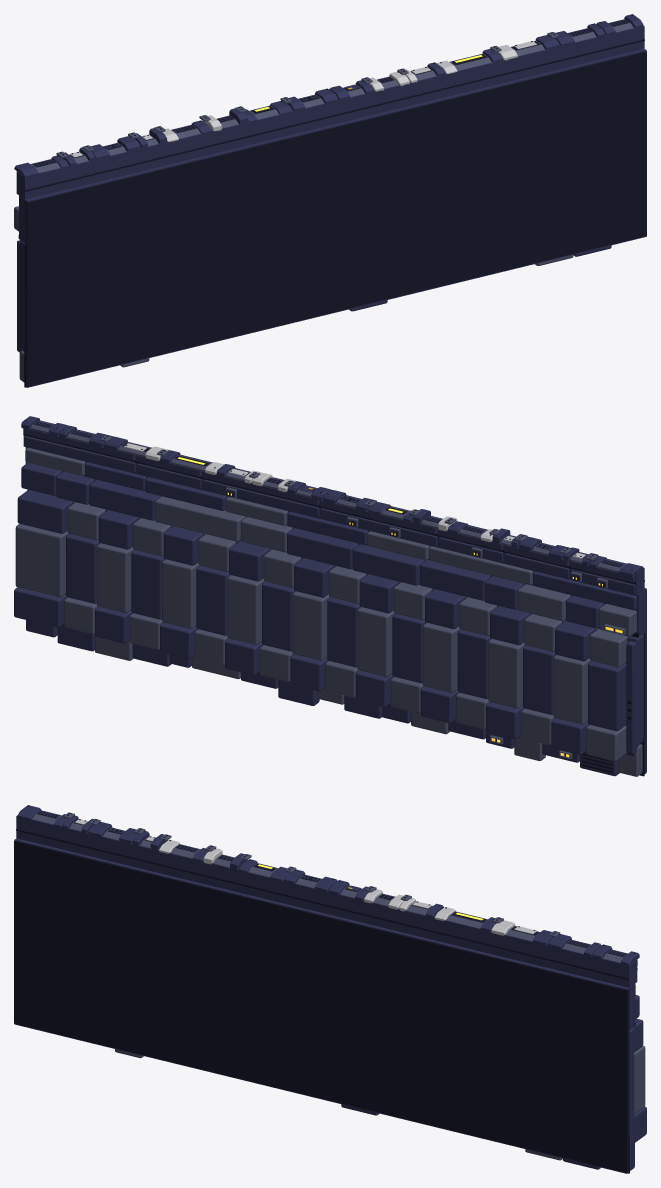
File: hull.bay.navy.navy.navy.louvre.w13.000.s0.k-2.5.t0.25.glb
3 renders of one model, top to bottom at view 1: azimuth 30°, elevation 25°; view 2: azimuth 150°, elevation 25°; view 3: azimuth 330°, elevation 25°, orthographic.
Parts seen in each view (by area): view 1: hull.bay.navy.navy.navy.louvre.w13.000.s0.k-2.5.t0.25; view 2: hull.bay.navy.navy.navy.louvre.w13.000.s0.k-2.5.t0.25; view 3: hull.bay.navy.navy.navy.louvre.w13.000.s0.k-2.5.t0.25.
Boxes of the visible parts, left/top/right/bottom form: hull.bay.navy.navy.navy.louvre.w13.000.s0.k-2.5.t0.25: left=14, top=14, right=646, bottom=387; hull.bay.navy.navy.navy.louvre.w13.000.s0.k-2.5.t0.25: left=14, top=416, right=646, bottom=776; hull.bay.navy.navy.navy.louvre.w13.000.s0.k-2.5.t0.25: left=14, top=805, right=646, bottom=1173.
Size of the model in its own units: 13 by 4.49 by 0.8385.
